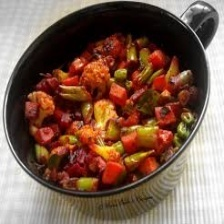sabzi: (19, 34, 201, 193)
